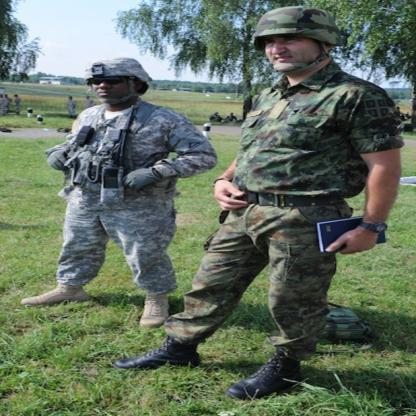Helmet: (251, 5, 348, 74), (74, 54, 160, 107)
